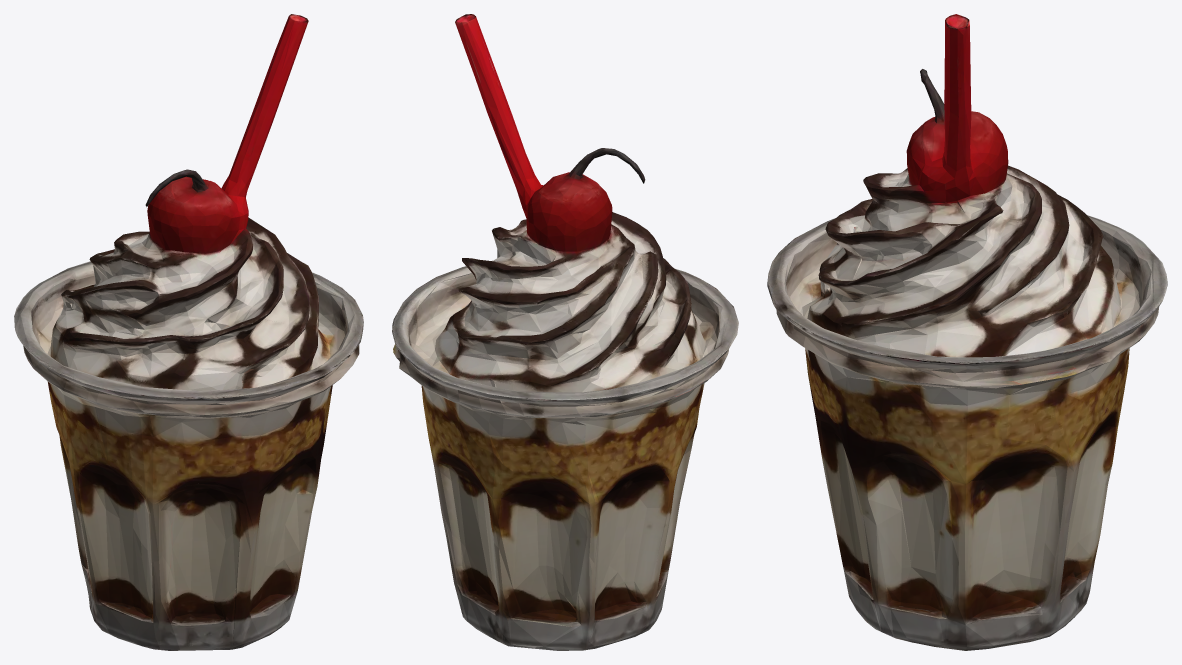
The model's file is round_tufted_ottoman_pouf_burgundy.glb.
3 views of the same model, side by side, from view 1: azimuth 30°, elevation 25°; view 2: azimuth 150°, elevation 25°; view 3: azimuth 270°, elevation 25° (orthographic). The views are drawn at different scales.
Visible parts, largest first — view 1: geometry_0; view 2: geometry_0; view 3: geometry_0.
Part boxes in pixels (box(x1,y1,x2,y2)): geometry_0: box(14, 14, 363, 650); geometry_0: box(392, 14, 738, 650); geometry_0: box(767, 14, 1167, 650).
Size of the model in its own units: 0.5526 by 0.9988 by 0.5653.
Materials: 1 (1 with a texture image).
